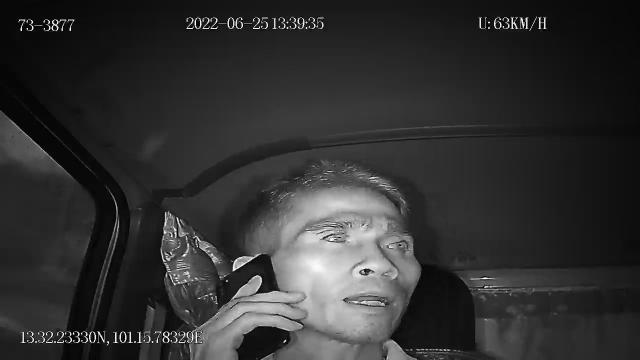PhoneUse: (213, 252, 293, 360)
SafeDriving: (311, 222, 360, 250), (373, 231, 418, 258)
